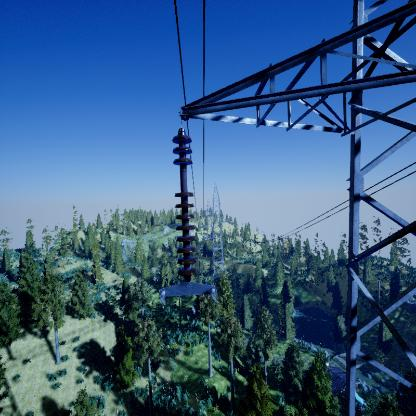insulator: (170, 134, 199, 280)
